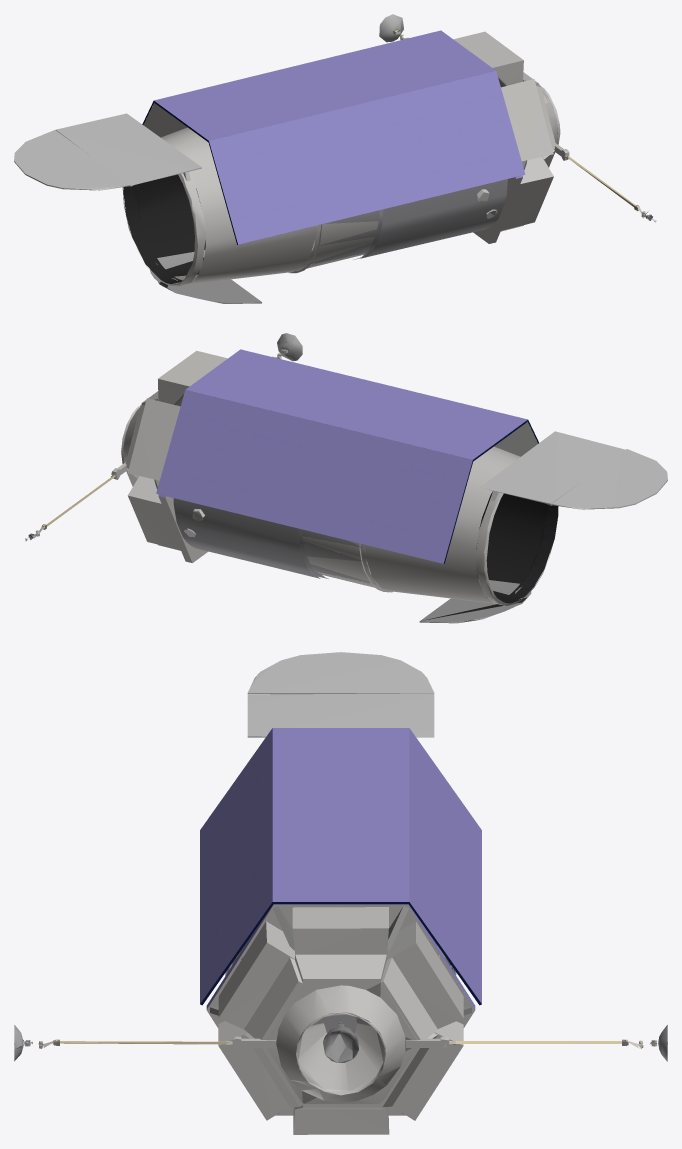
The model's file is roman.glb.
The picture shows the model from 3 angles, top to bottom: view 1: azimuth 30°, elevation 25°; view 2: azimuth 150°, elevation 25°; view 3: azimuth 270°, elevation 25°; orthographic projection. The views are drawn at different scales.
Parts seen in each view (by area): view 1: solar-panel, body, foil; view 2: solar-panel, body, foil; view 3: body, solar-panel.
Boxes of the visible parts, <box> form: solar-panel: <box>142,30,525,244</box>; body: <box>14,14,656,303</box>; foil: <box>129,32,654,303</box>; solar-panel: <box>156,349,538,563</box>; body: <box>25,333,667,623</box>; foil: <box>27,498,551,623</box>; body: <box>14,652,667,1134</box>; solar-panel: <box>200,728,481,1009</box>.
Bounding box in the file's own units: 412 × 131 × 364.
